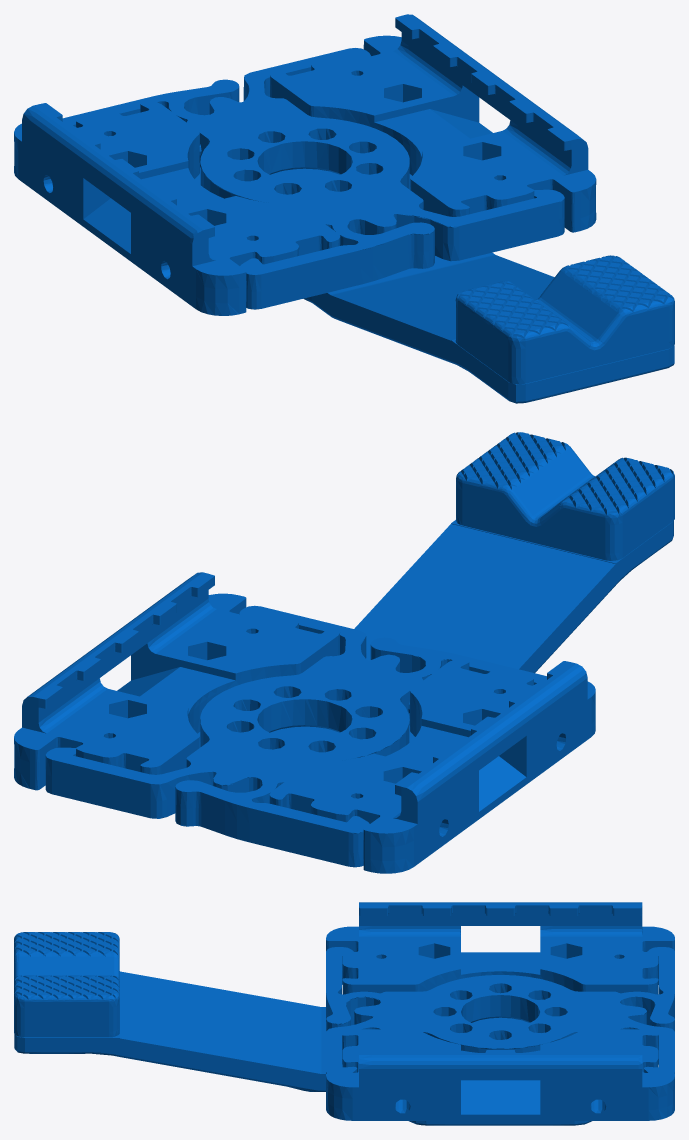
File: qbmove_finger_down_m.dae
3 renders of one model, top to bottom at view 1: azimuth 30°, elevation 25°; view 2: azimuth 150°, elevation 25°; view 3: azimuth 270°, elevation 25°, orthographic. The views are drawn at different scales.
Parts seen in each view (by area): view 1: Body_1, Body_2, Body_3, Body_5, Body_4; view 2: Body_1, Body_2, Body_3, Body_4, Body_5; view 3: Body_3, Body_2, Body_4, Body_1, Body_5.
Part boxes in pixels (x1=…): Body_1: x1=62, y1=48, x2=564, y2=309; Body_2: x1=14, y1=101, x2=340, y2=315; Body_3: x1=270, y1=14, x2=596, y2=232; Body_5: x1=455, y1=255, x2=674, y2=384; Body_4: x1=194, y1=167, x2=674, y2=403; Body_1: x1=45, y1=605, x2=546, y2=867; Body_2: x1=269, y1=659, x2=595, y2=873; Body_3: x1=14, y1=572, x2=339, y2=790; Body_4: x1=198, y1=520, x2=673, y2=747; Body_5: x1=456, y1=432, x2=674, y2=560; Body_3: x1=326, y1=1029, x2=674, y2=1120; Body_2: x1=326, y1=902, x2=674, y2=994; Body_4: x1=14, y1=971, x2=591, y2=1125; Body_1: x1=326, y1=947, x2=674, y2=1073; Body_5: x1=14, y1=932, x2=119, y2=1037.
Bounding box in the file's own units: 0.072 × 0.1251 × 0.0246.
